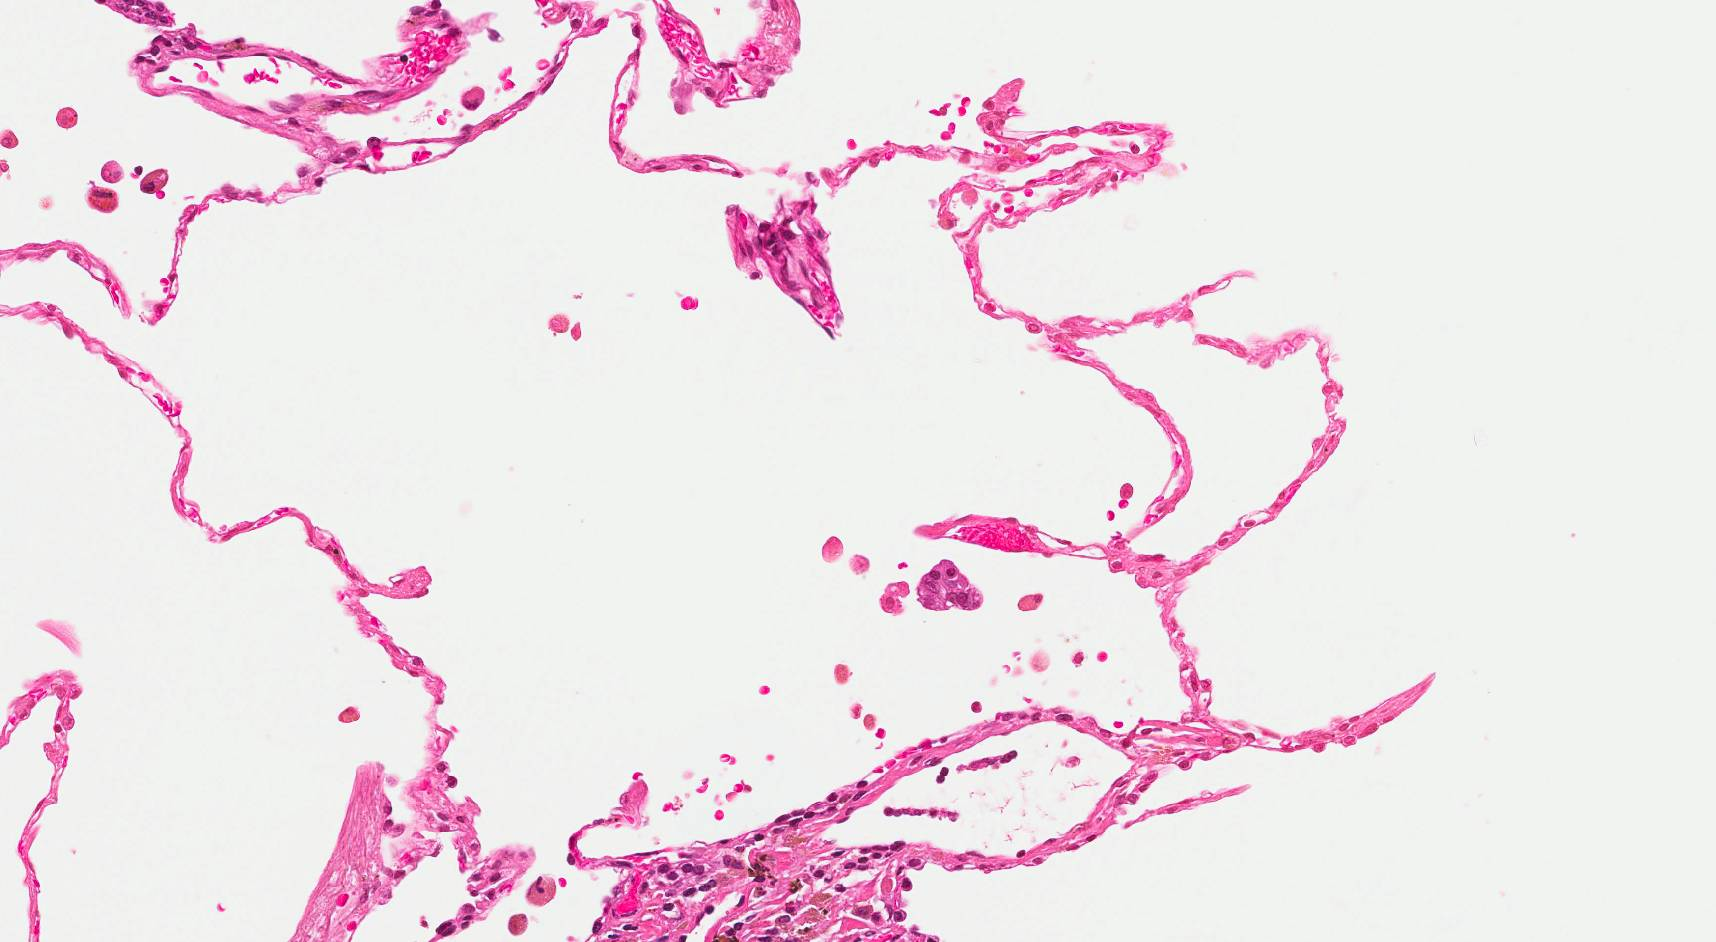stas: (917, 557, 983, 613)
